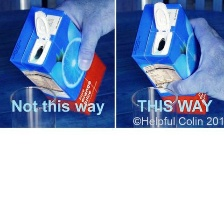carton: (7, 4, 109, 116), (129, 2, 213, 116)
glass: (3, 83, 58, 129), (126, 83, 179, 130)
